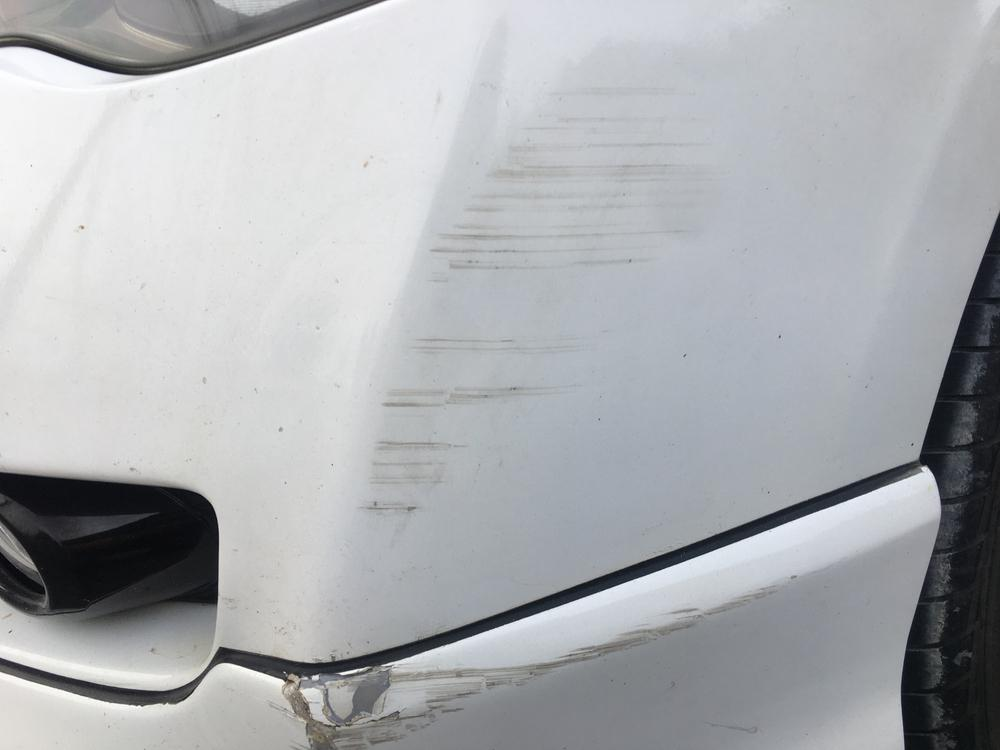scratch: (363, 62, 732, 522), (279, 570, 807, 750)
